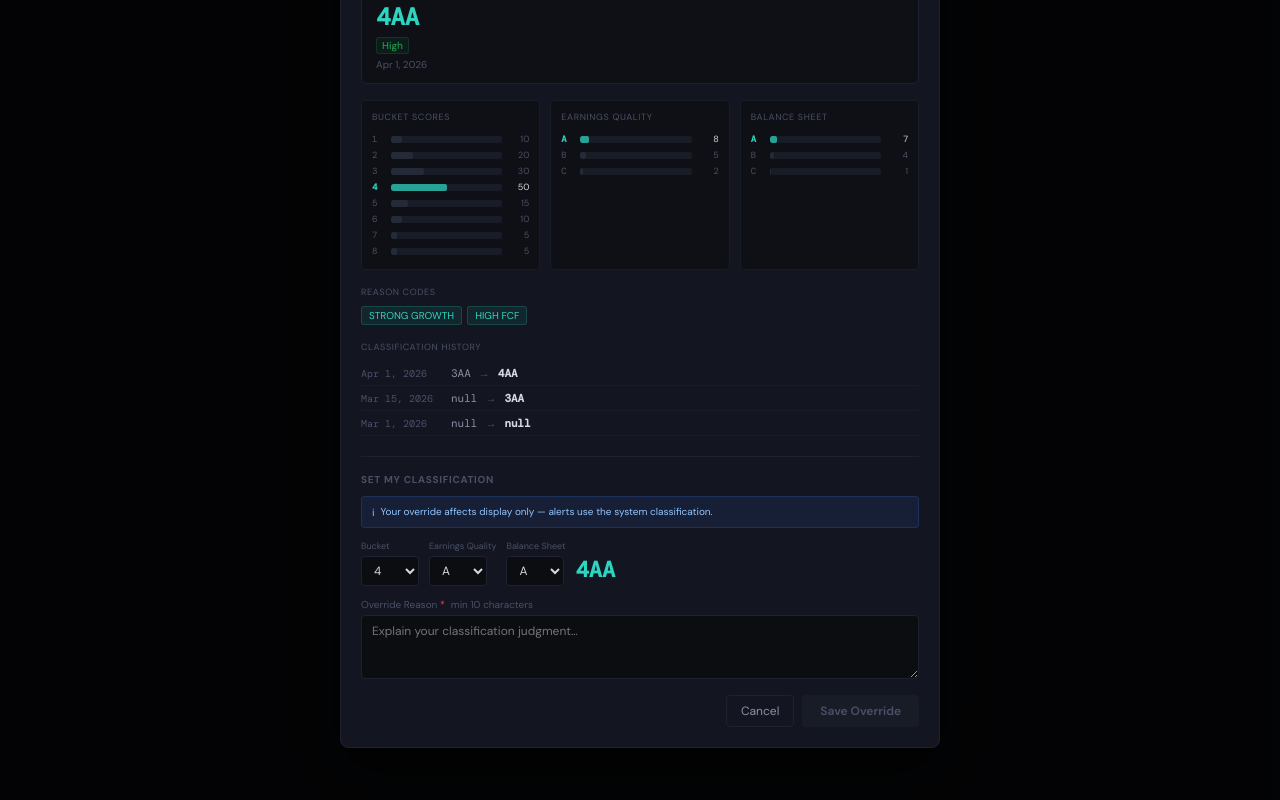
Scenario: EPIC-004/STORY-051/TASK-051-004: ClassificationModal › Save button enabled when reason is 14 chars
The width and height of the screenshot is (1280, 800).
(page scrolled)
Check: the button with test id "save-override-btn" is shown, box [802, 695, 919, 727]
Type "My full thesis" into the text box with test id "override-reason-input".
click(640, 647); type("My full thesis")  # box [361, 615, 919, 679]
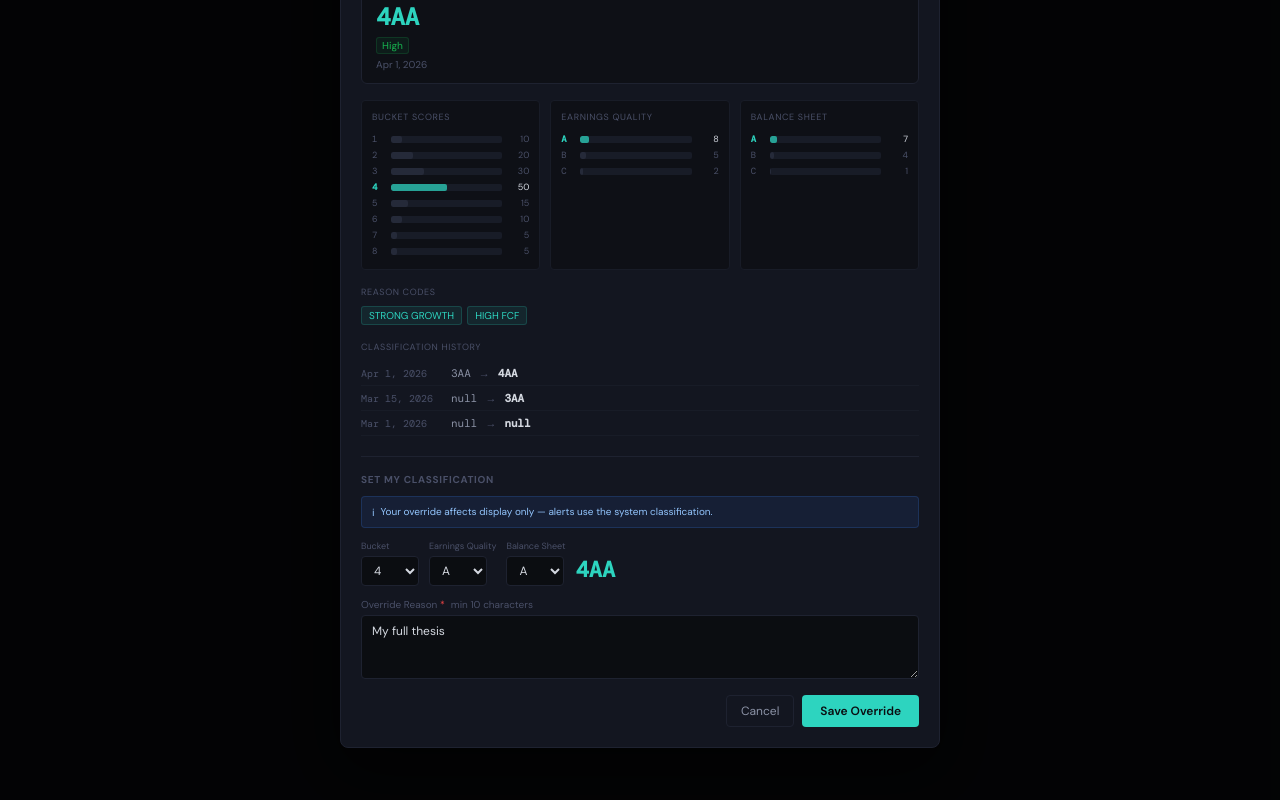
Check: the button with test id "save-override-btn" is enabled, box [802, 695, 919, 727]
